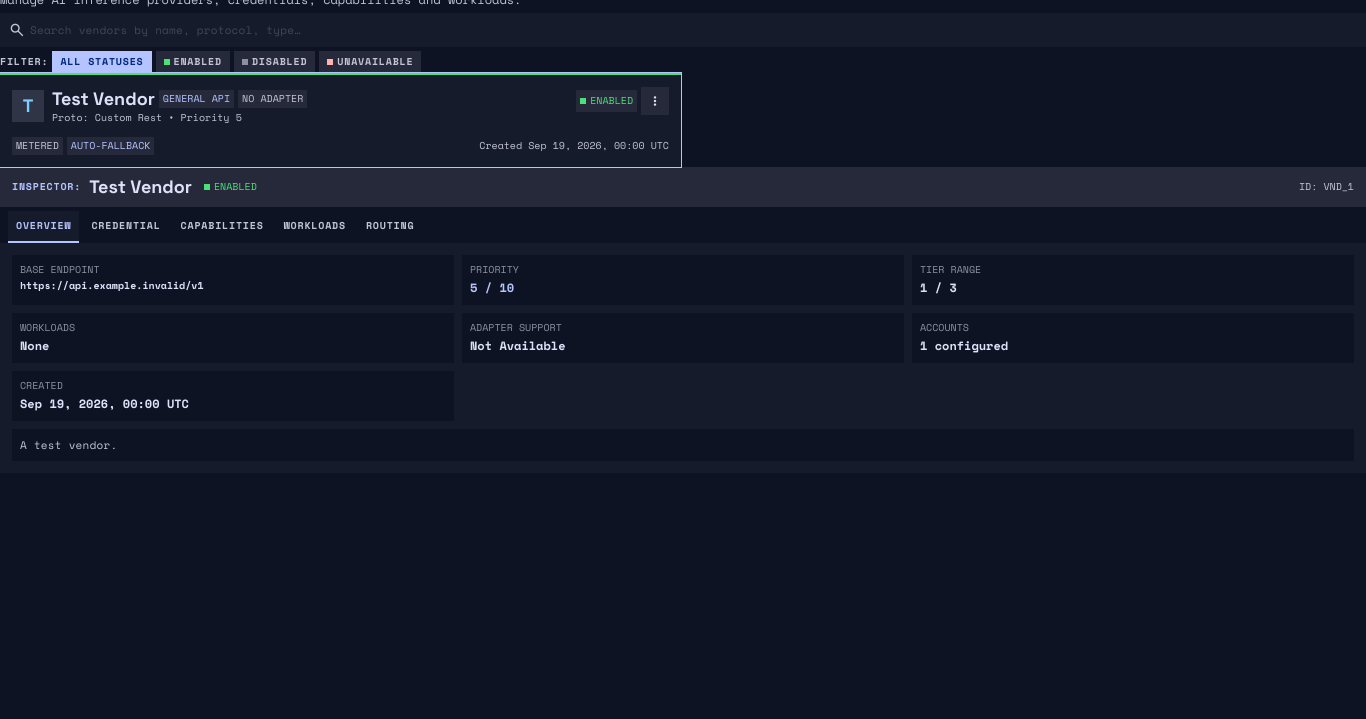
Scenario: Vendors page — Credential Vault (Block 08) › a failed credential creation surfaces the API error message without crashing
Expected: the text "Test Vendor" next to "General Api" is shown, x1=52 y1=87 x2=155 y2=110
Click the button "Credential" at point(126, 227), box x1=83 y1=211 x2=169 y2=243
(page scrolled)
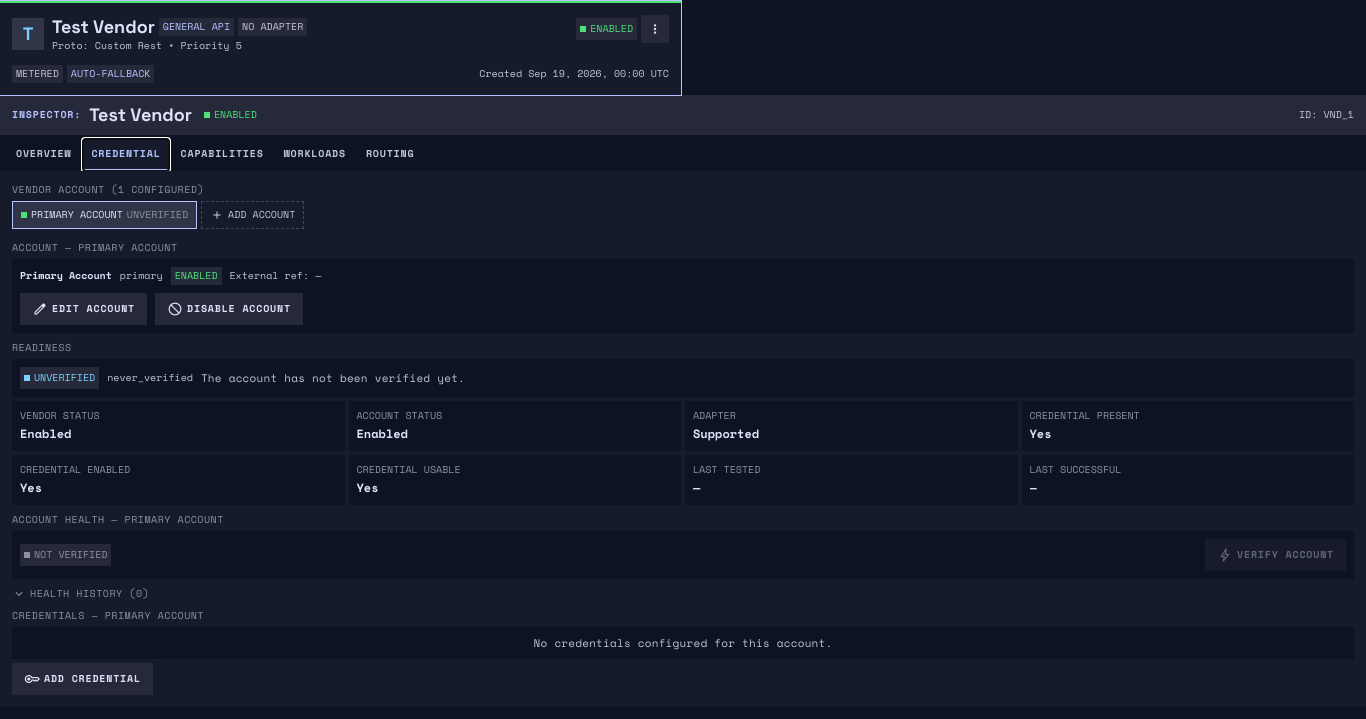
Expected: the text "No credentials configured for this account." is shown, x1=12 y1=627 x2=1354 y2=659
Click the button "Add Credential" at point(82, 679), box x1=12 y1=663 x2=153 y2=695
(page scrolled)
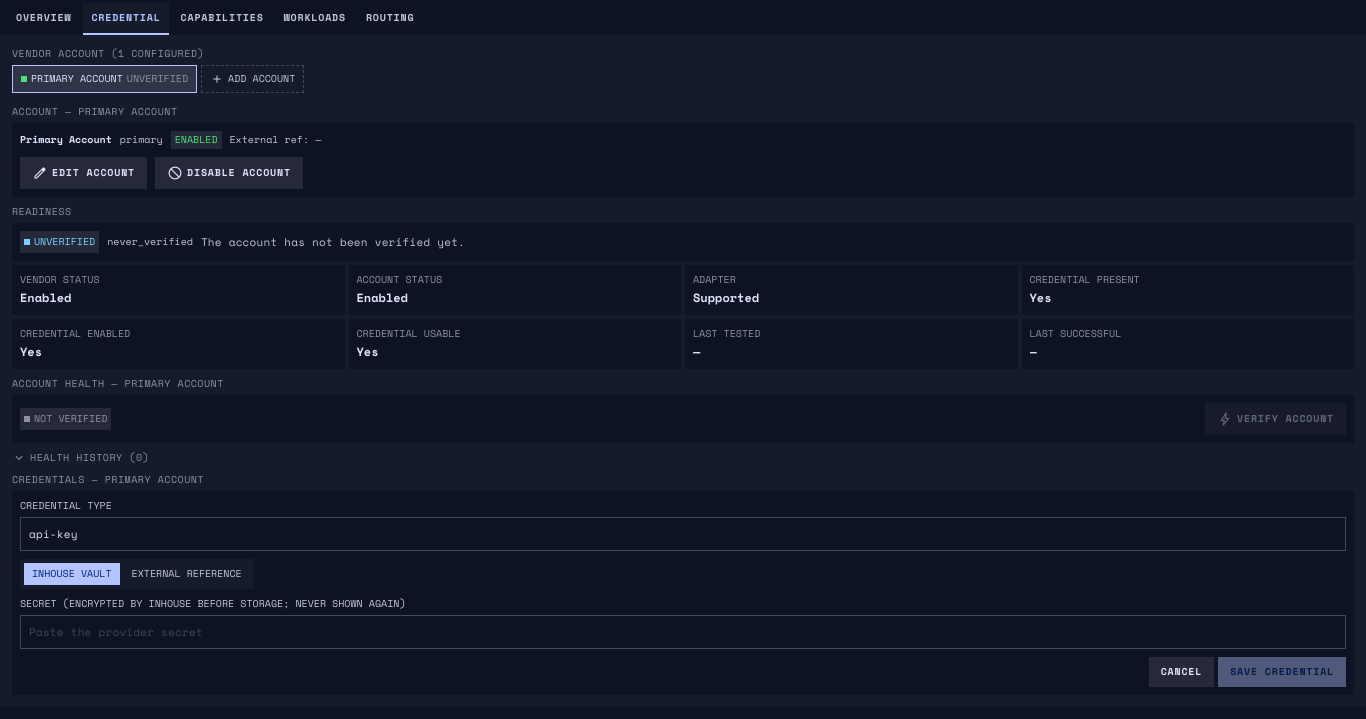
Type "sk-raw-secret-value" into the password field with placeholder "Paste the provider secret" at point(683, 632), box x1=20 y1=615 x2=1346 y2=649
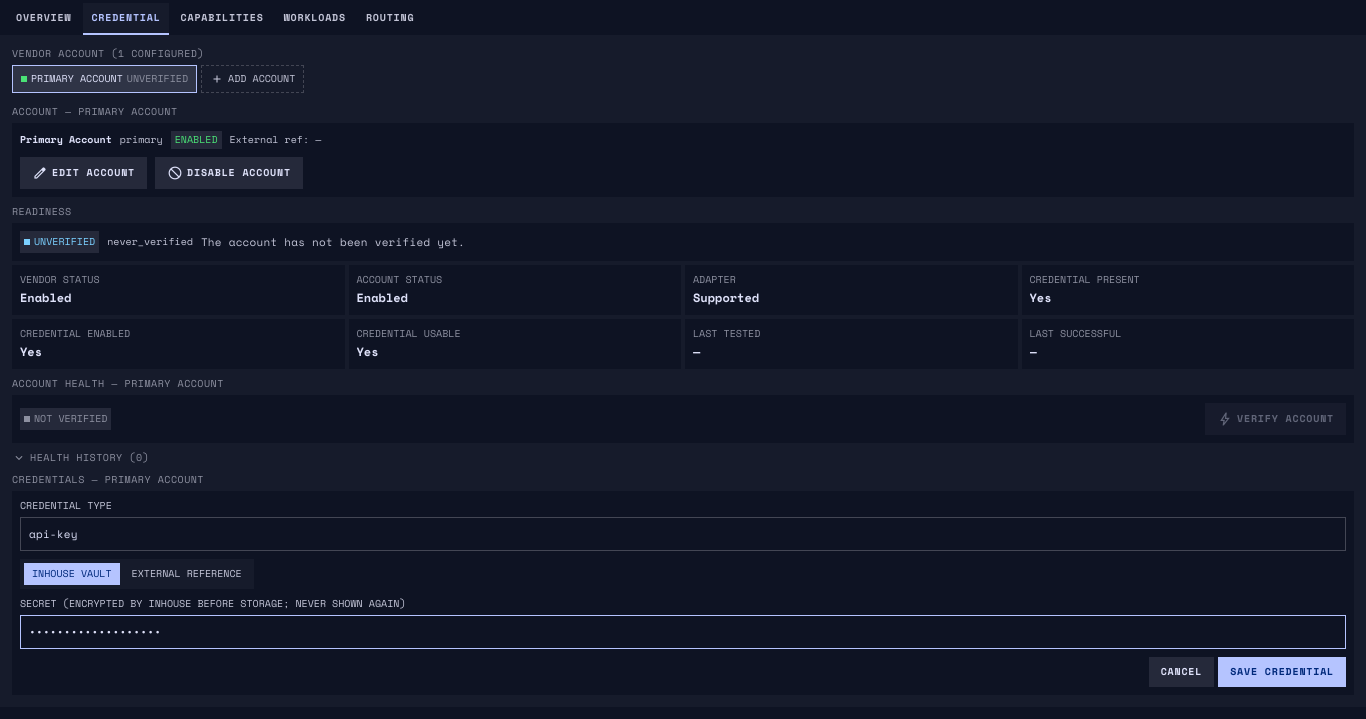
Click the button "Save Credential" at point(1282, 672), box x1=1218 y1=657 x2=1346 y2=687
(page scrolled)
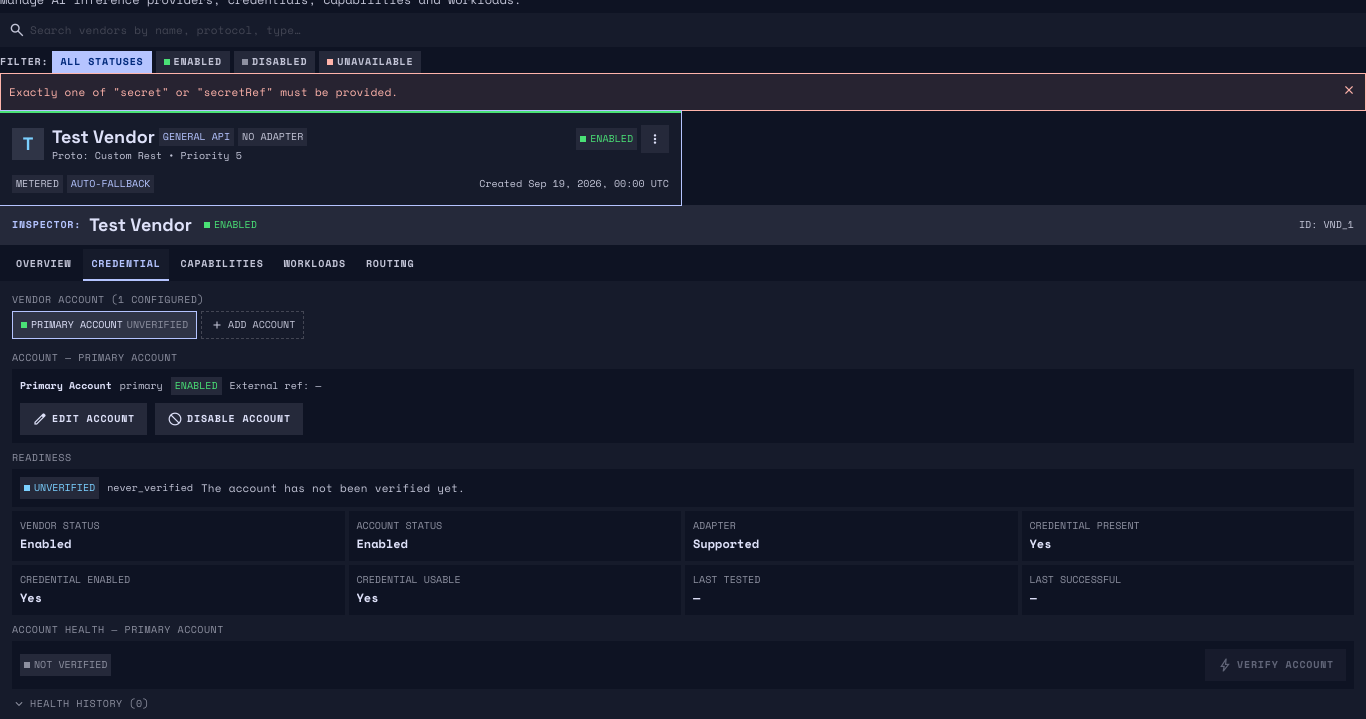
Expected: the text "Exactly one of \"secret\" or \"secretRef\" must be provided." is shown, x1=9 y1=84 x2=398 y2=100
